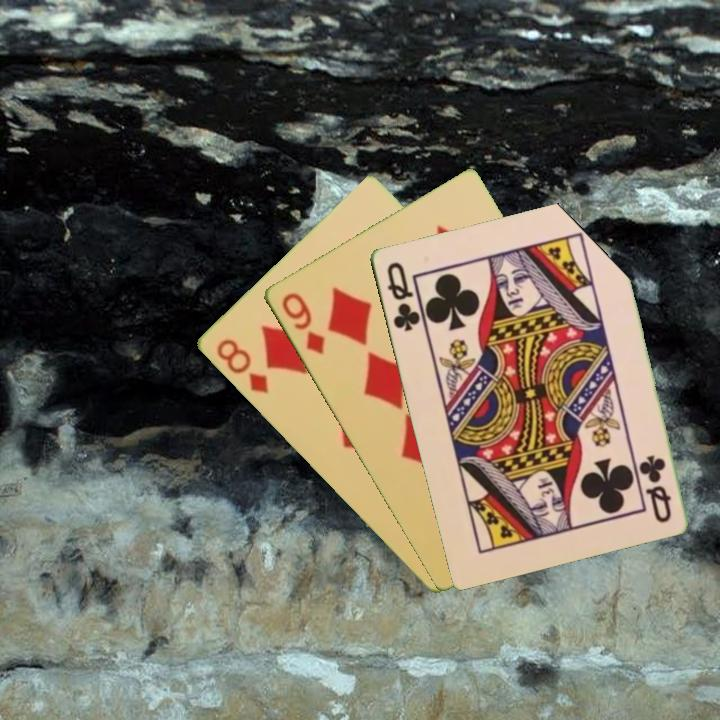8d: (212, 335, 271, 397)
9d: (277, 288, 327, 358)
Qc: (383, 258, 423, 334), (636, 451, 674, 526)
